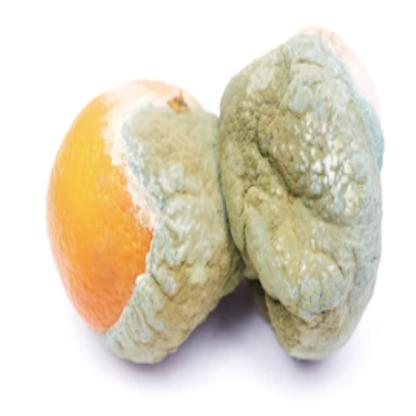rotten: (45, 29, 392, 374)
